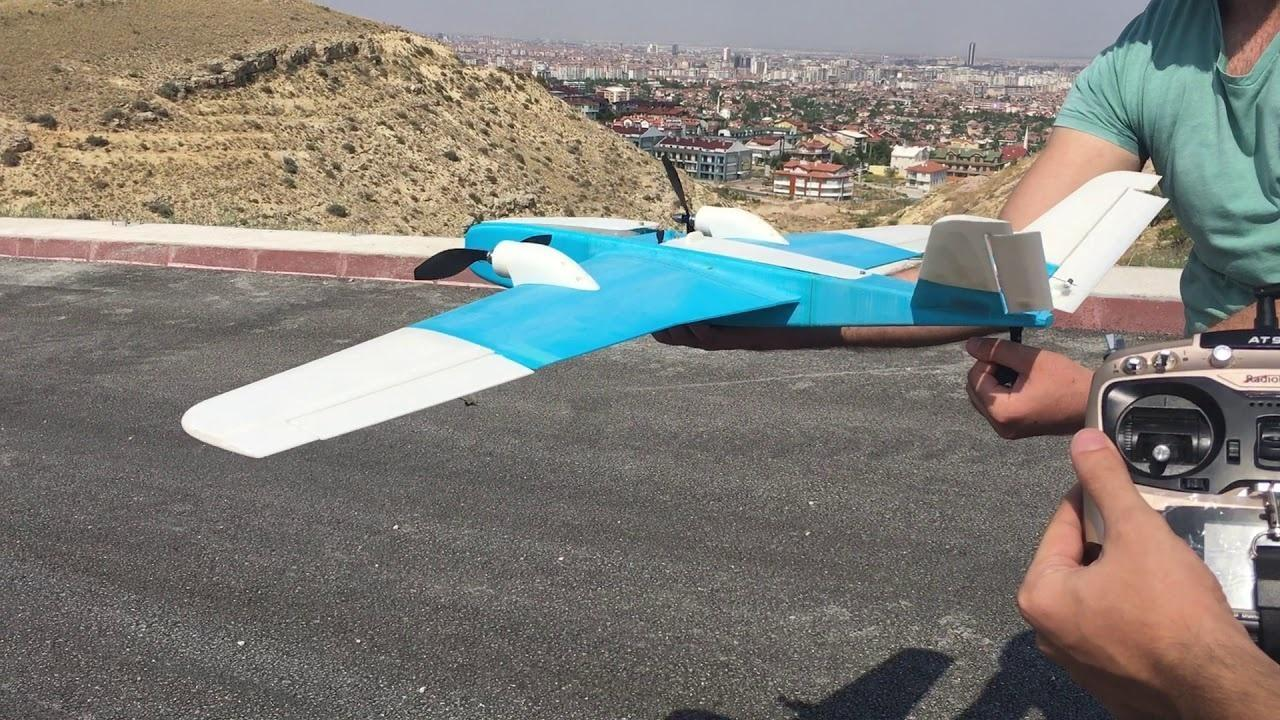Airplane: (181, 157, 1170, 461)
